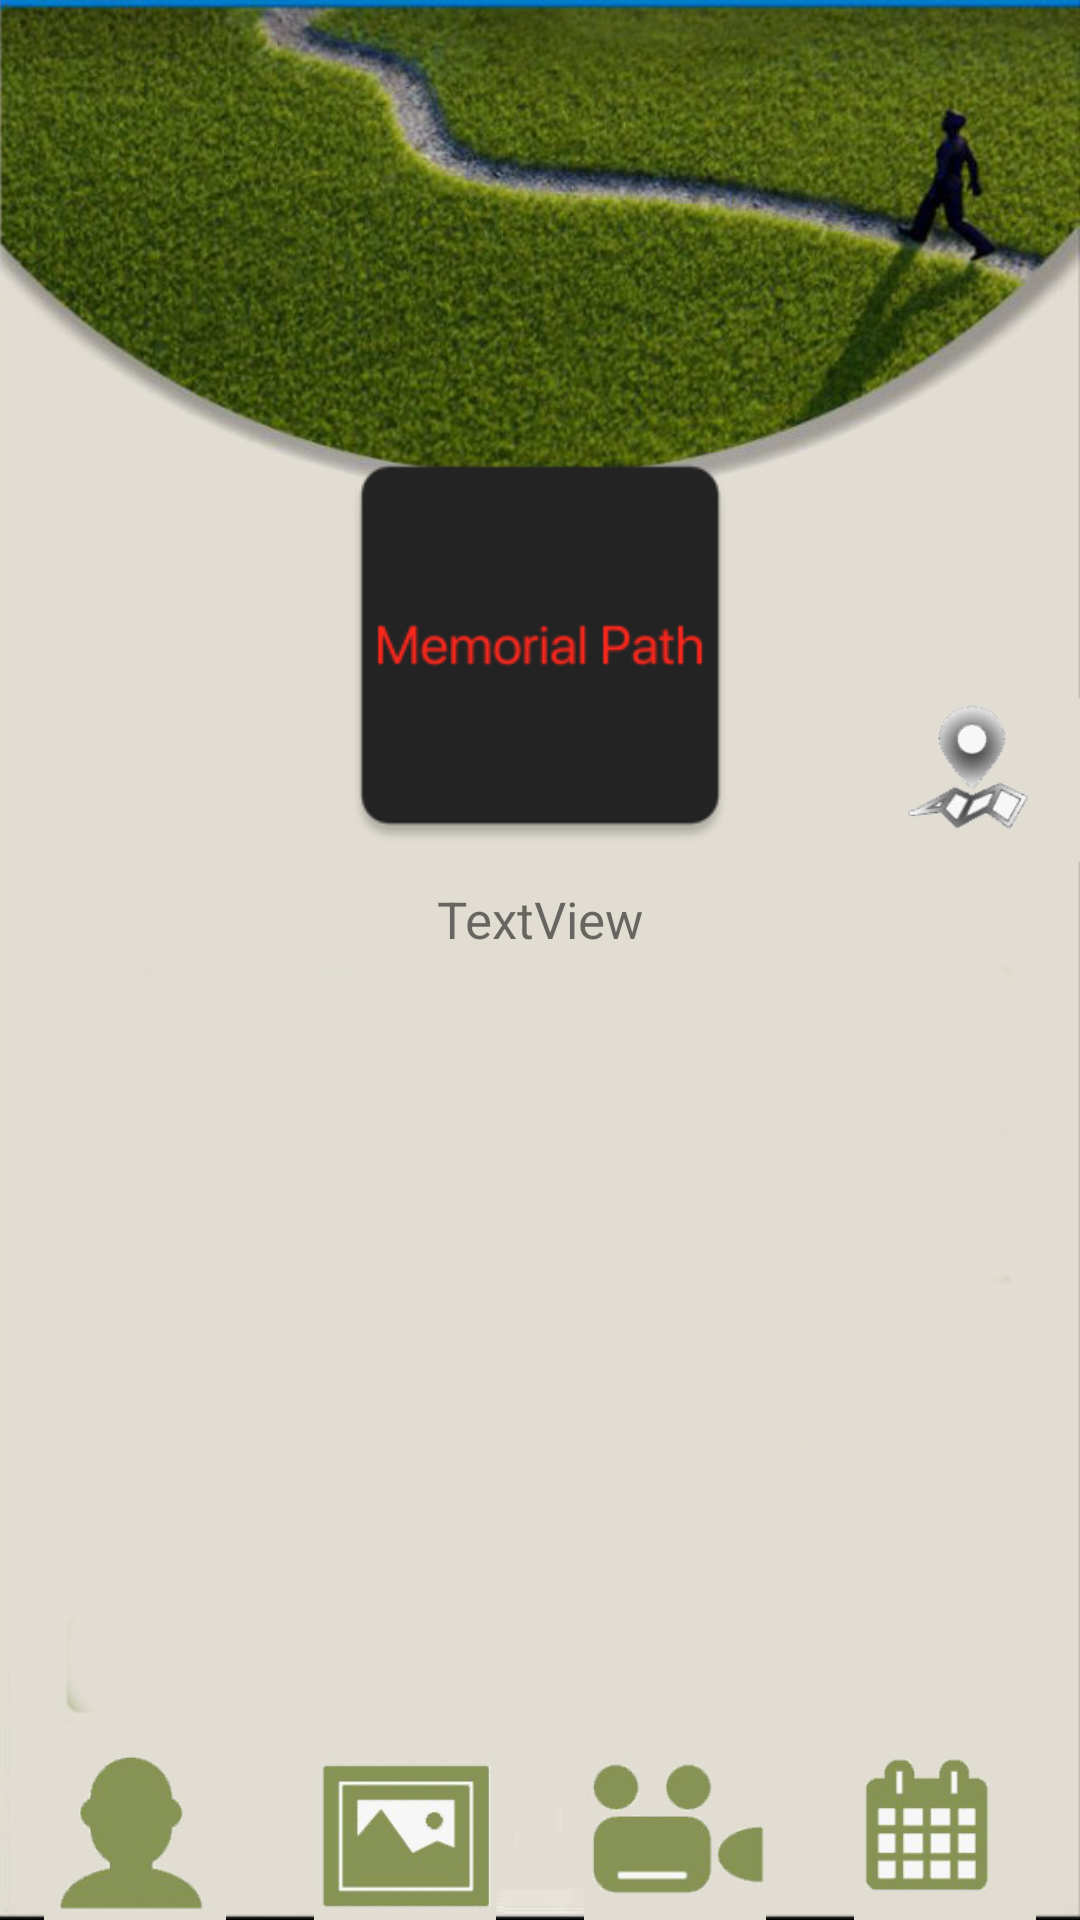

Where to tap for icons on this 1080px×1920px app screen, as (x,y):
maps: (967,767)
memorialevent: (926,1824)
profile: (101,1838)
video: (678,1829)
